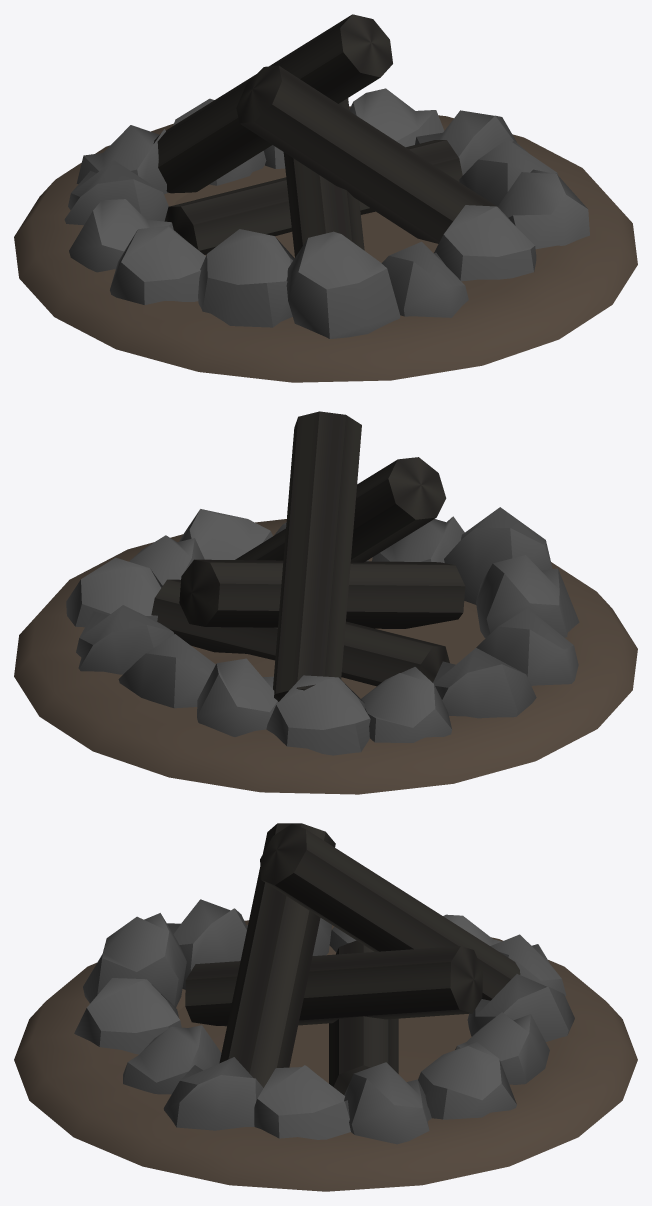
File: Campfire.fbx
3 renders of one model, top to bottom at view 1: azimuth 30°, elevation 25°; view 2: azimuth 150°, elevation 25°; view 3: azimuth 270°, elevation 25°, orthographic.
Visible parts, largest first — view 1: Tree4; view 2: Tree4; view 3: Tree4.
Boxes of the visible parts, x1,y1,x2,y2 form: Tree4: (14, 14, 637, 382); Tree4: (14, 411, 637, 794); Tree4: (14, 823, 637, 1191).
Bounding box in the file's own units: 15.46 × 7.21 × 15.46.
Materials: 3 (2 with a texture image).
